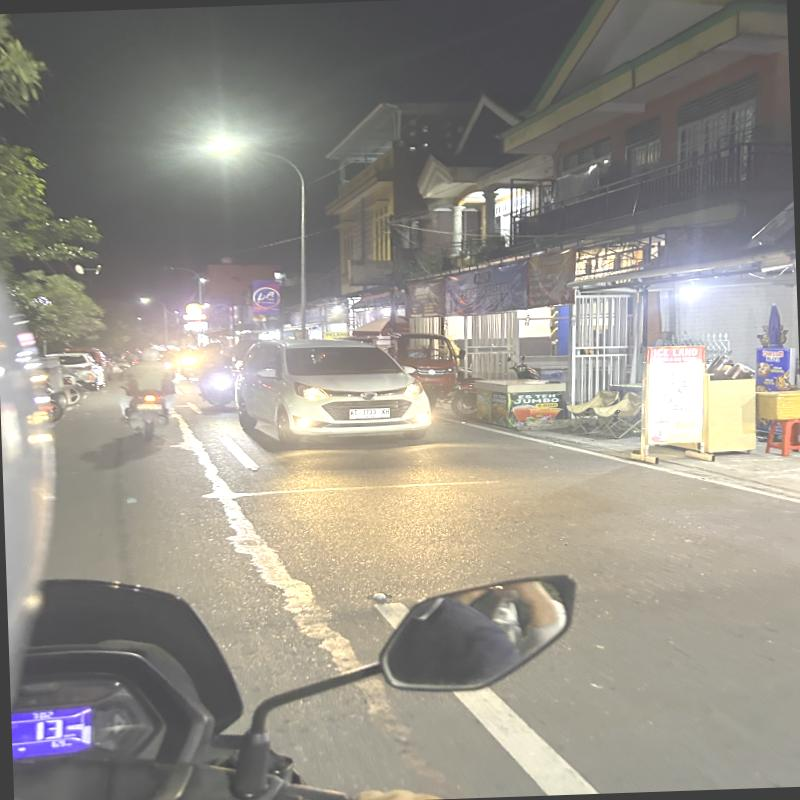license plate on a car: (348, 406, 391, 420)
